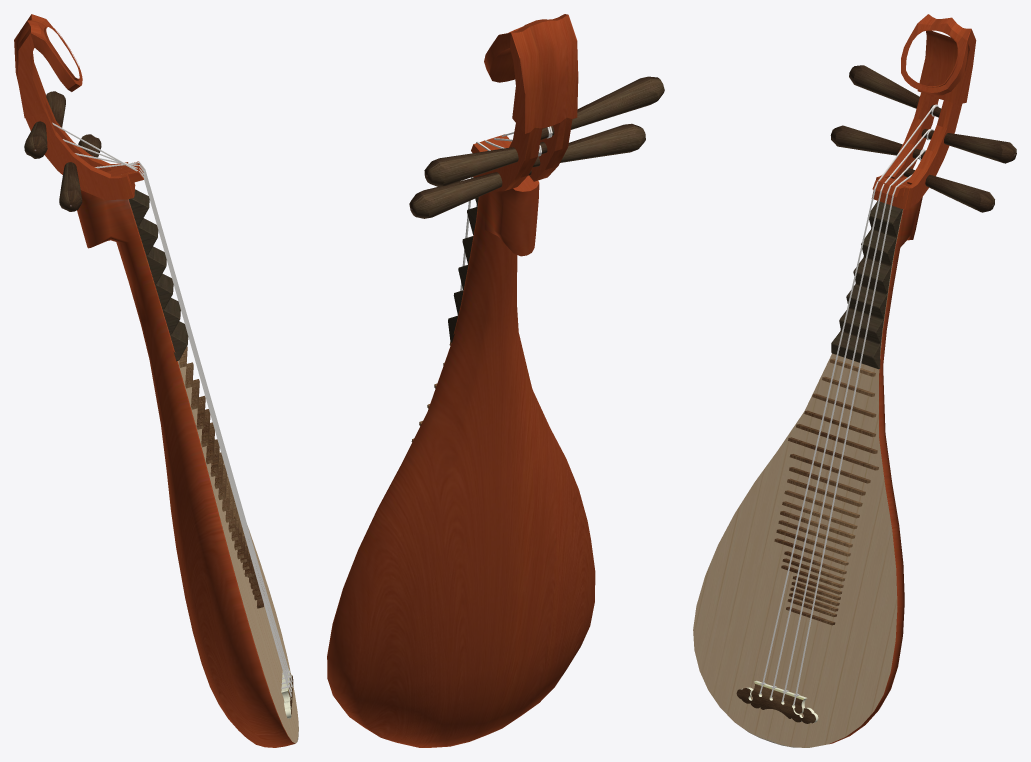
File: dan_ty_ba.gltf
3 views of the same model, side by side, from view 1: azimuth 30°, elevation 25°; view 2: azimuth 150°, elevation 25°; view 3: azimuth 270°, elevation 25° (orthographic). The views are drawn at different scales.
Visible parts, largest first — view 1: object_2; view 2: object_2; view 3: object_2.
Boxes of the visible parts, x1,y1,x2,y2 form: object_2: (14,14,298,747); object_2: (327,14,664,747); object_2: (693,14,1016,747).
Bounding box in the file's own units: 2.97 × 7.49 × 3.38.
1 material, 1 textured.
